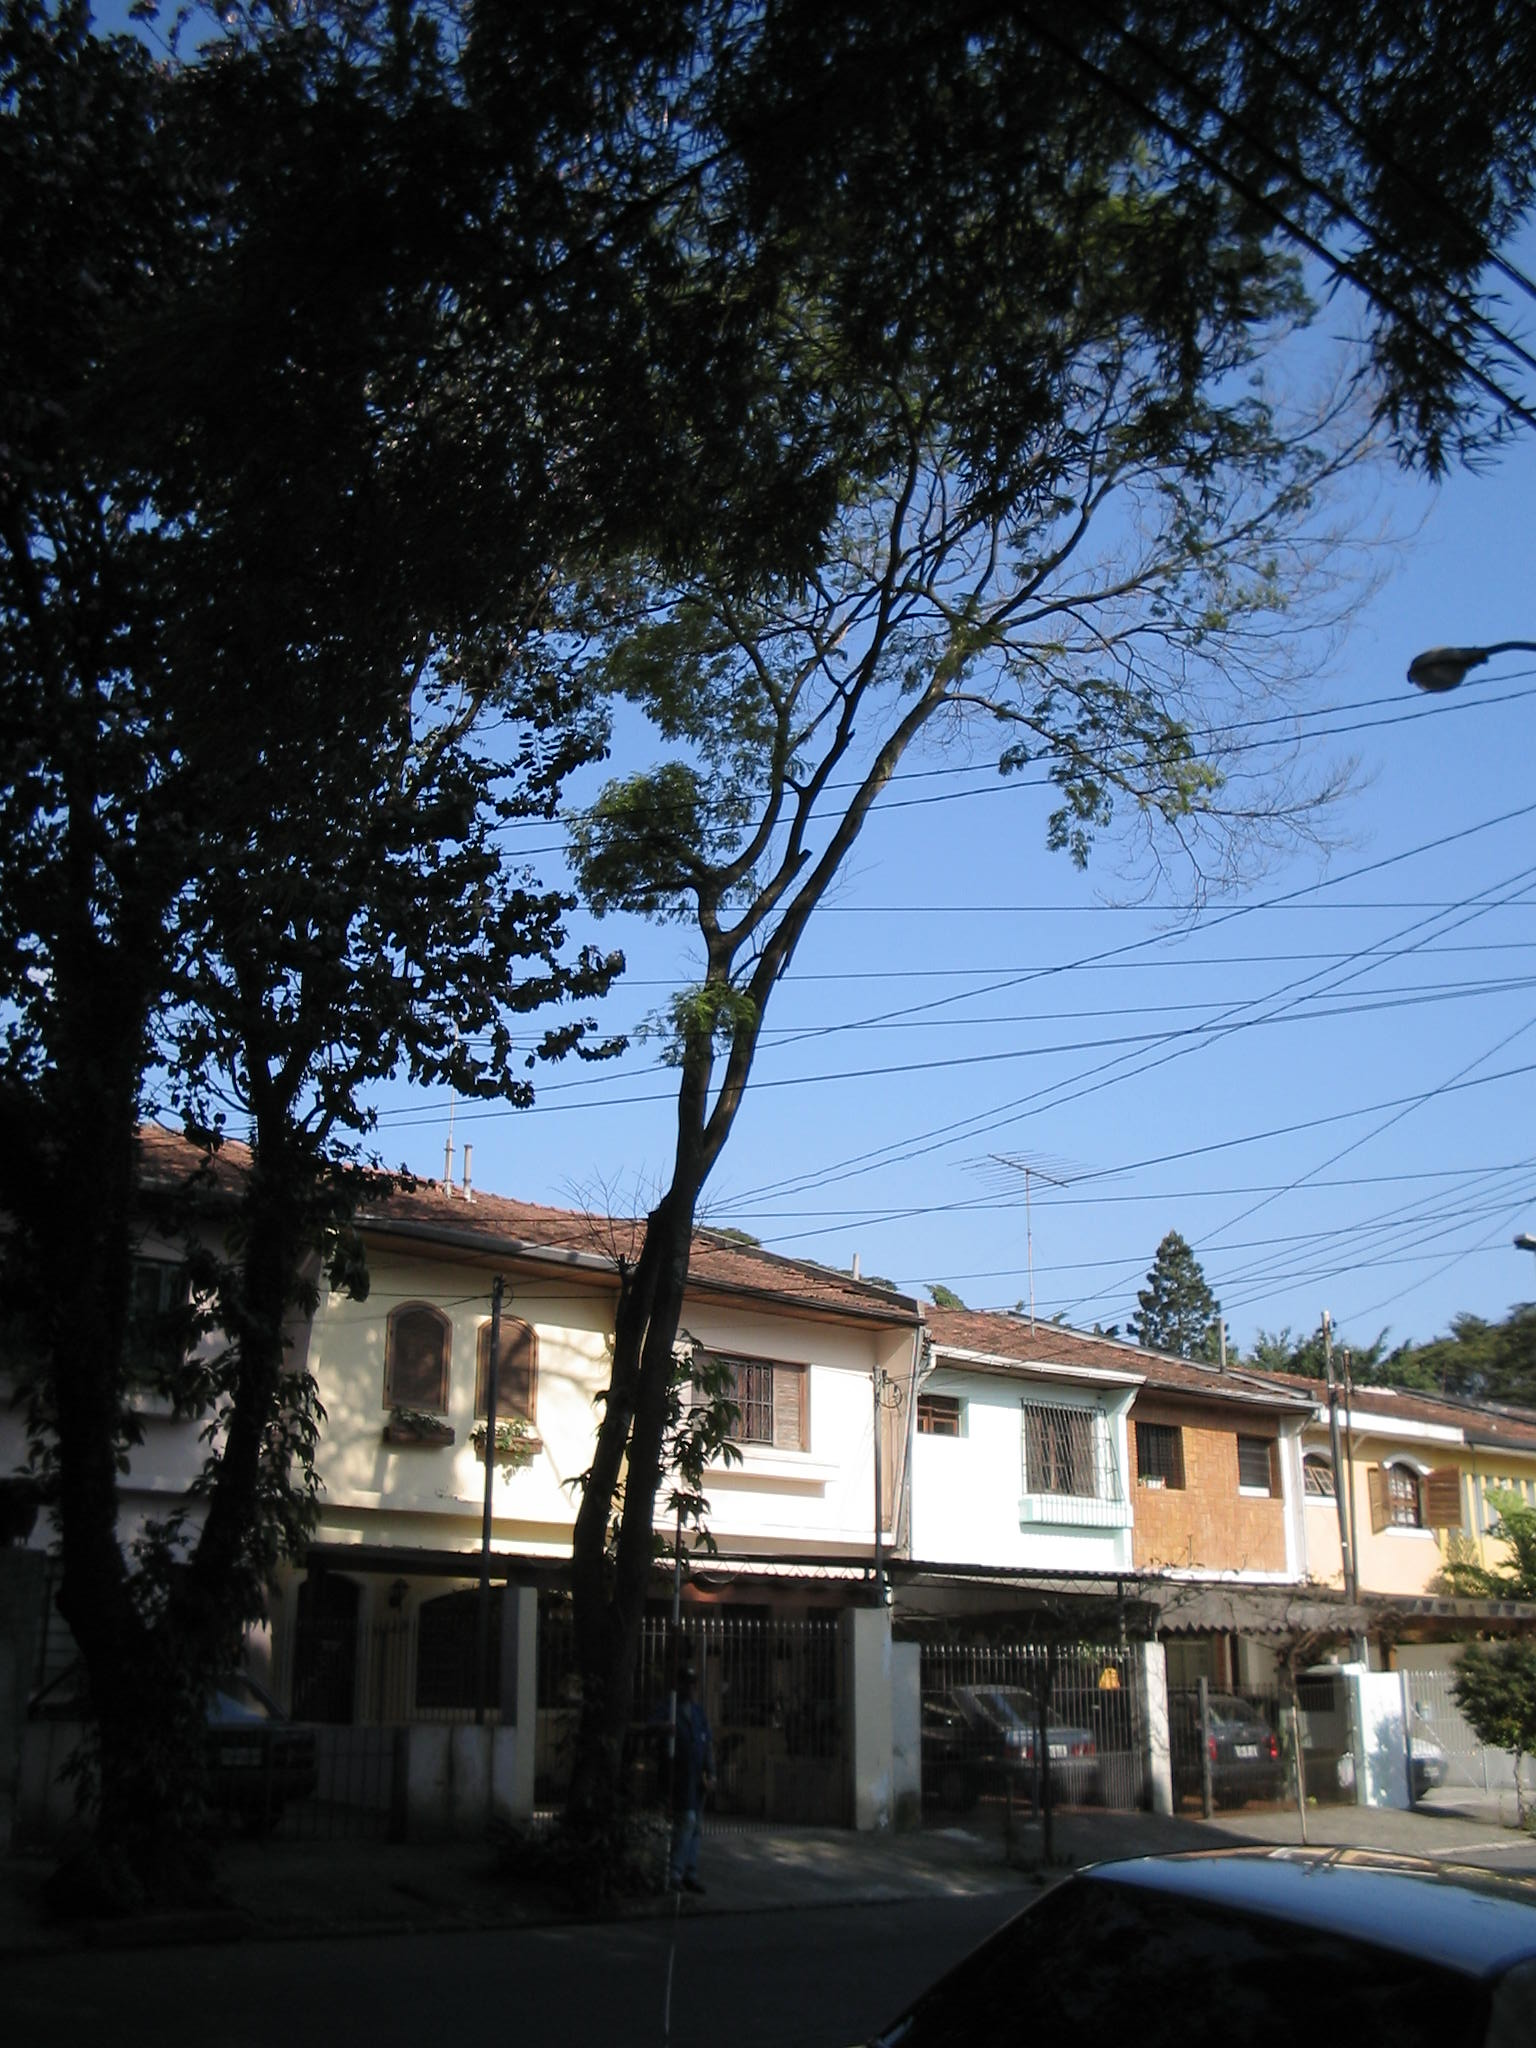crown: (24, 11, 854, 1197), (474, 176, 1383, 1068)
stem: (56, 1669, 245, 1911), (549, 1611, 653, 1901)
stick: (650, 1493, 699, 1901)
tree: (8, 6, 857, 1922), (466, 173, 1388, 1909)
